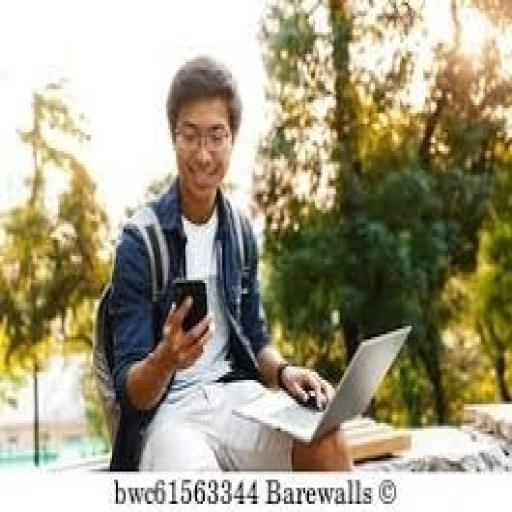texting: (100, 54, 356, 471)
